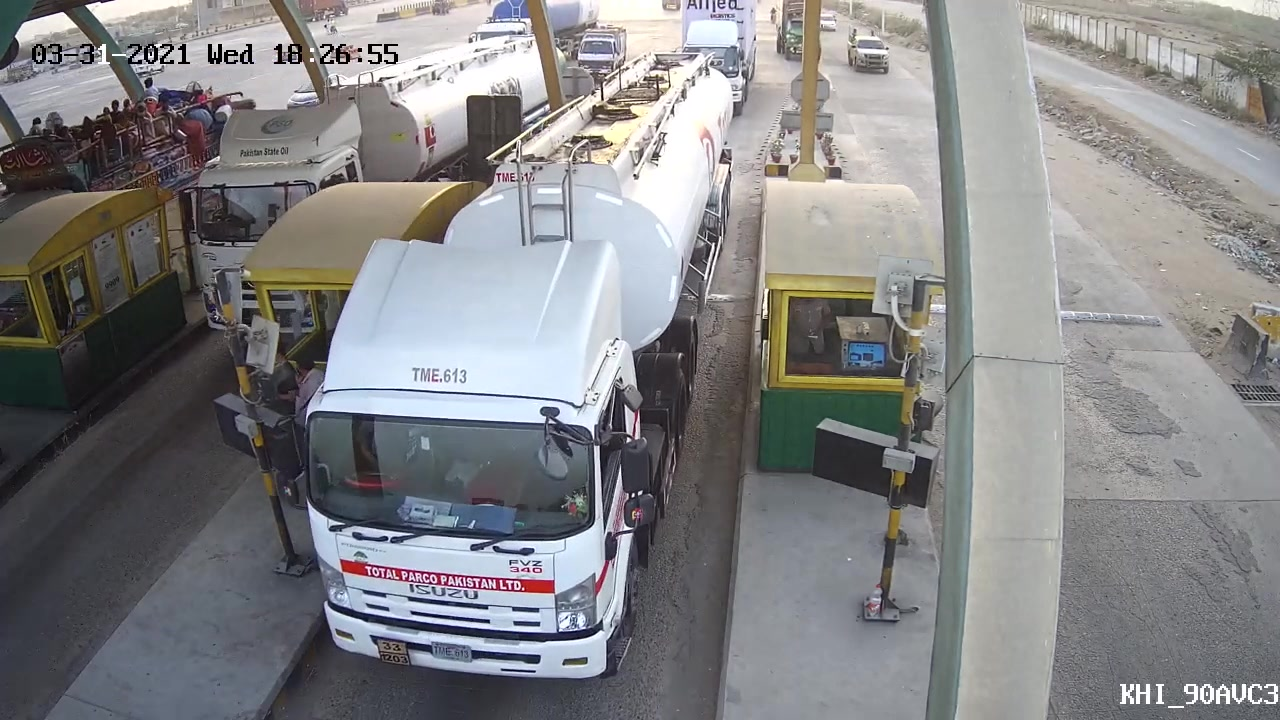F6: (275, 48, 739, 685)
